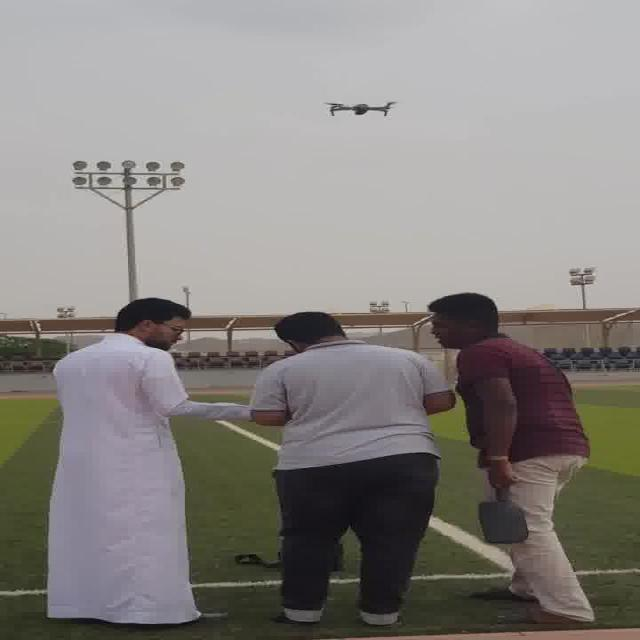drone: (308, 90, 408, 118)
